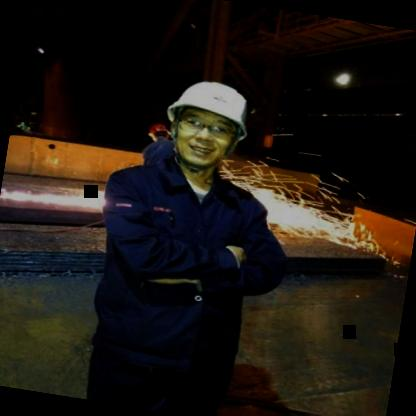helmet: (152, 62, 264, 179), (138, 118, 172, 149)
